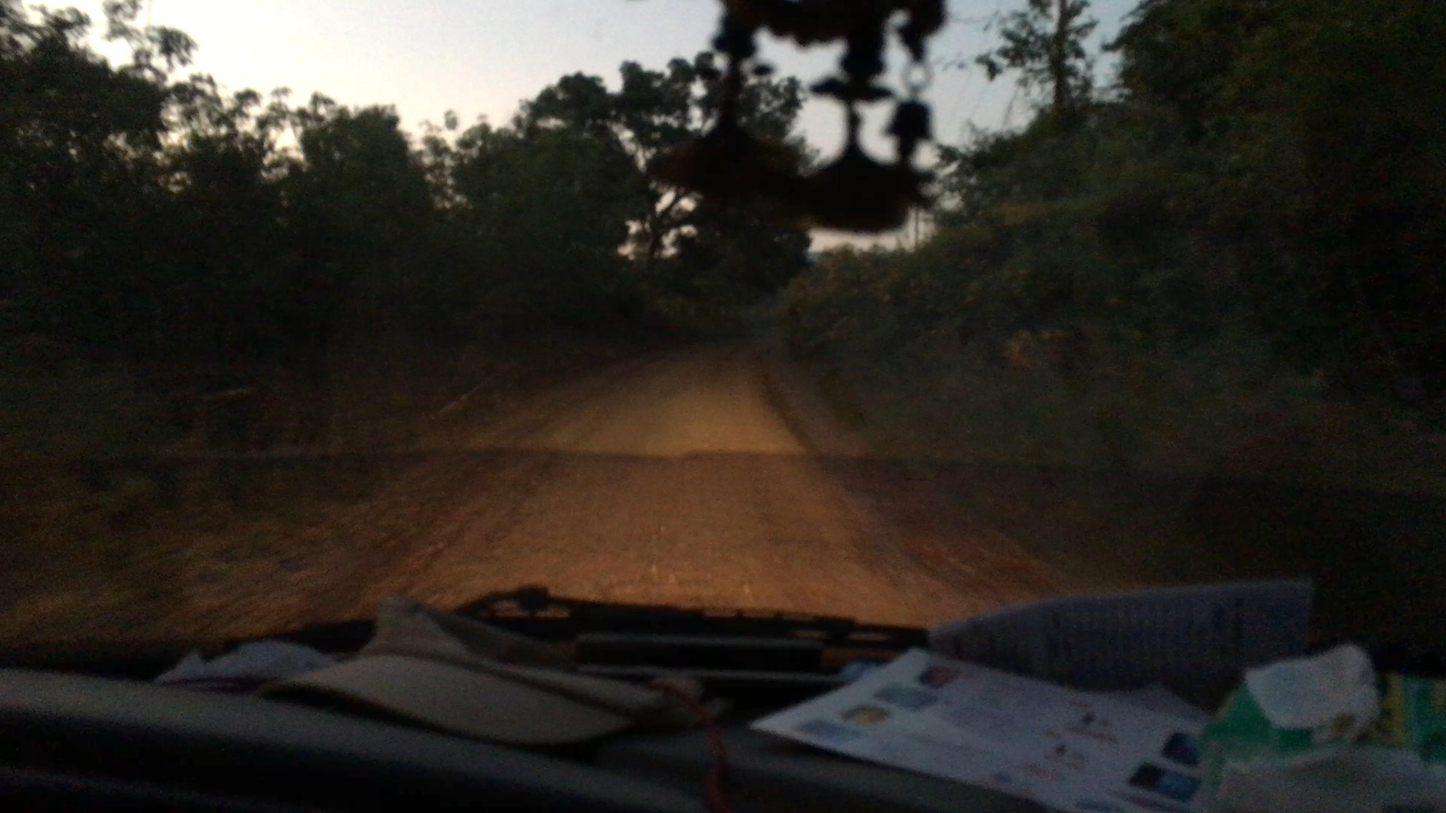dry: (227, 331, 1040, 633)
